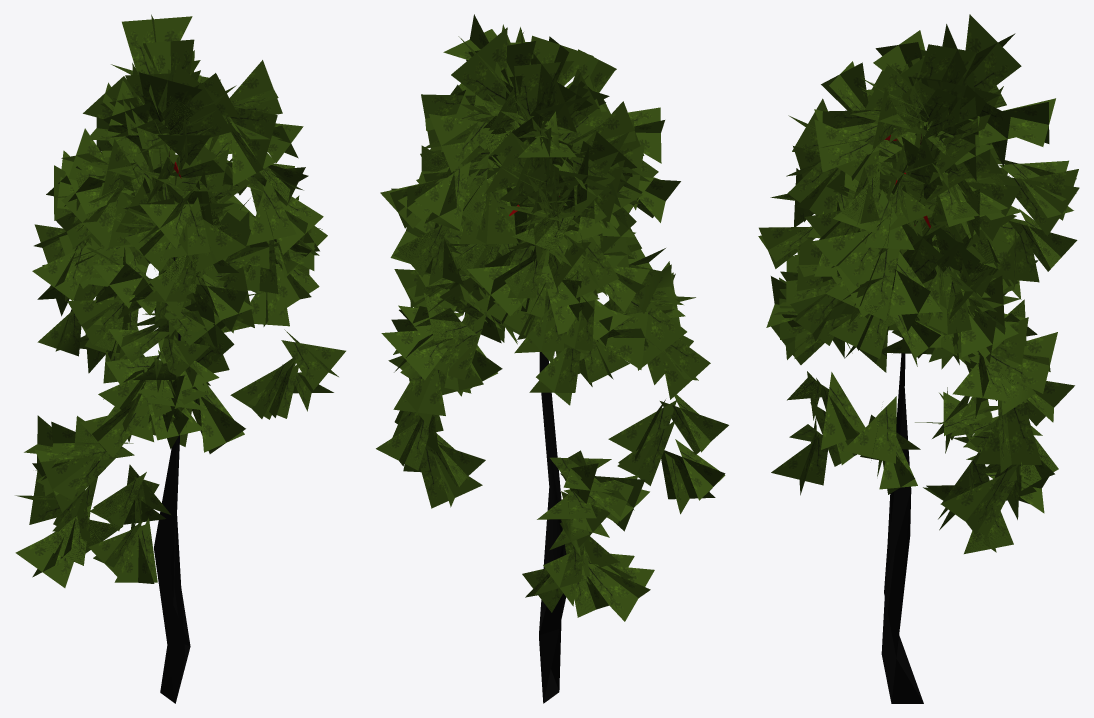
The model's file is birch6 lod2.FBX.
The picture shows the model from 3 angles, left to right: view 1: azimuth 30°, elevation 25°; view 2: azimuth 150°, elevation 25°; view 3: azimuth 270°, elevation 25°; orthographic projection. The views are drawn at different scales.
Parts seen in each view (by area): view 1: birch6_LOD2; view 2: birch6_LOD2; view 3: birch6_LOD2.
Boxes of the visible parts, x1,y1,x2,y2 form: birch6_LOD2: (15,14,345,703); birch6_LOD2: (376,14,728,703); birch6_LOD2: (758,14,1079,703).
Bounding box in the file's own units: 57711 × 127053 × 53179.
